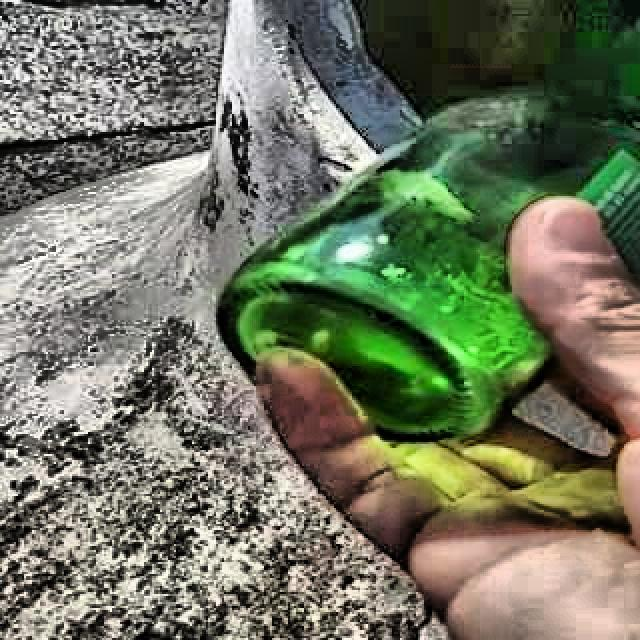glass: (219, 21, 640, 442)
